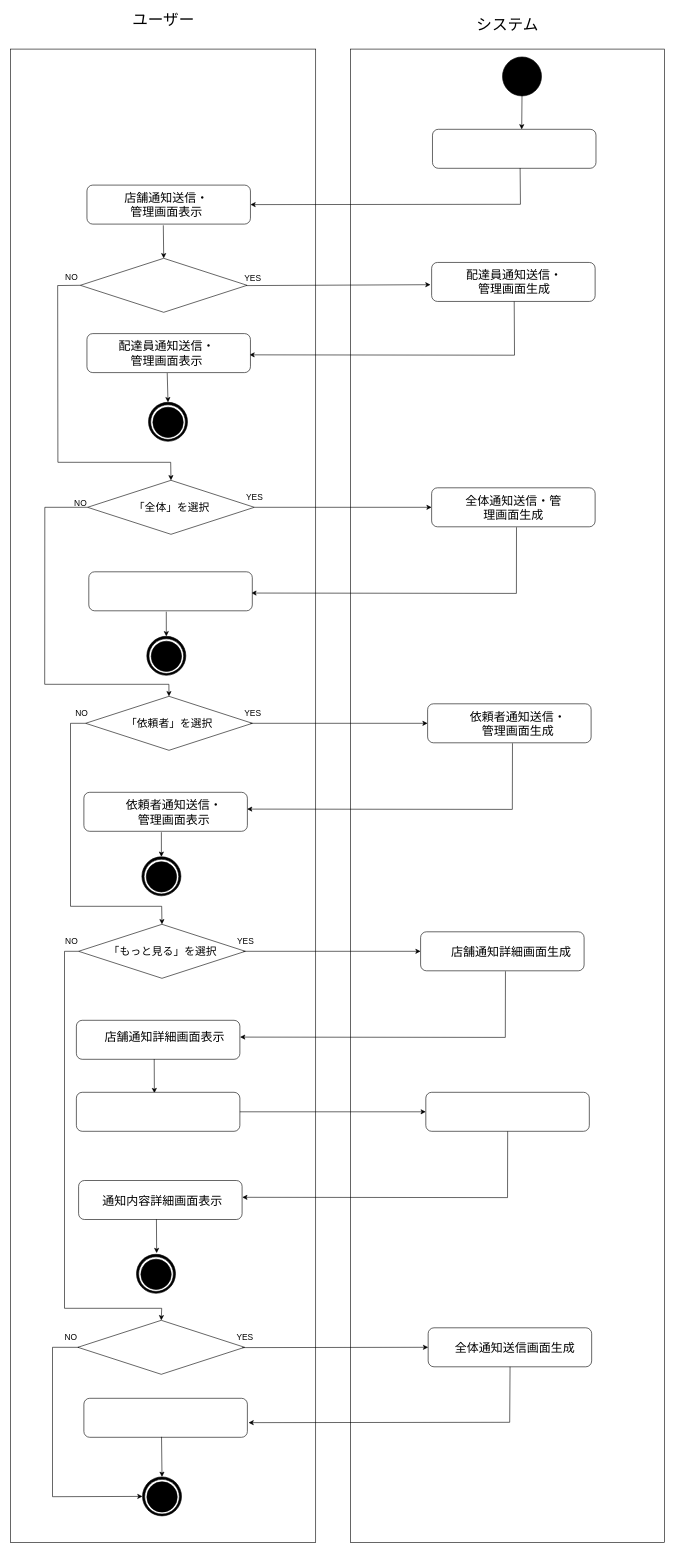
The diagram is 675 pixels wide and 1553 high, and some of its shapes have lost their labels. The shapes that lost their labels are listed below. From the top down, each one's centre as x and y in pixels, then its label:
At point 514,148: "店舗通知送信・ 管理画面生成".
At point 163,285: "「配達員」を選択".
At point 170,591: "全体通知送信・管理画面表示".
At point 158,1111: "「詳細」を選択".
At point 507,1111: "通知内容詳細画面生成".
At point 161,1347: "「全体通知送信」を選択".
At point 165,1417: "全体通知送信画面表示".
